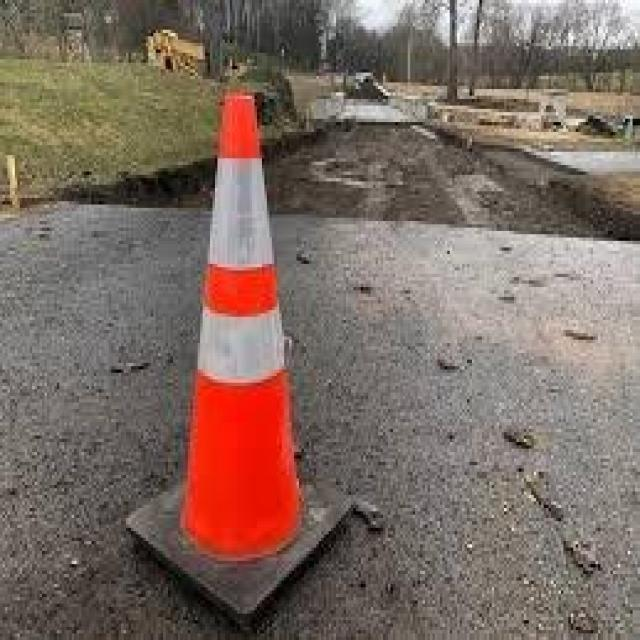Cone: (124, 92, 356, 638)
